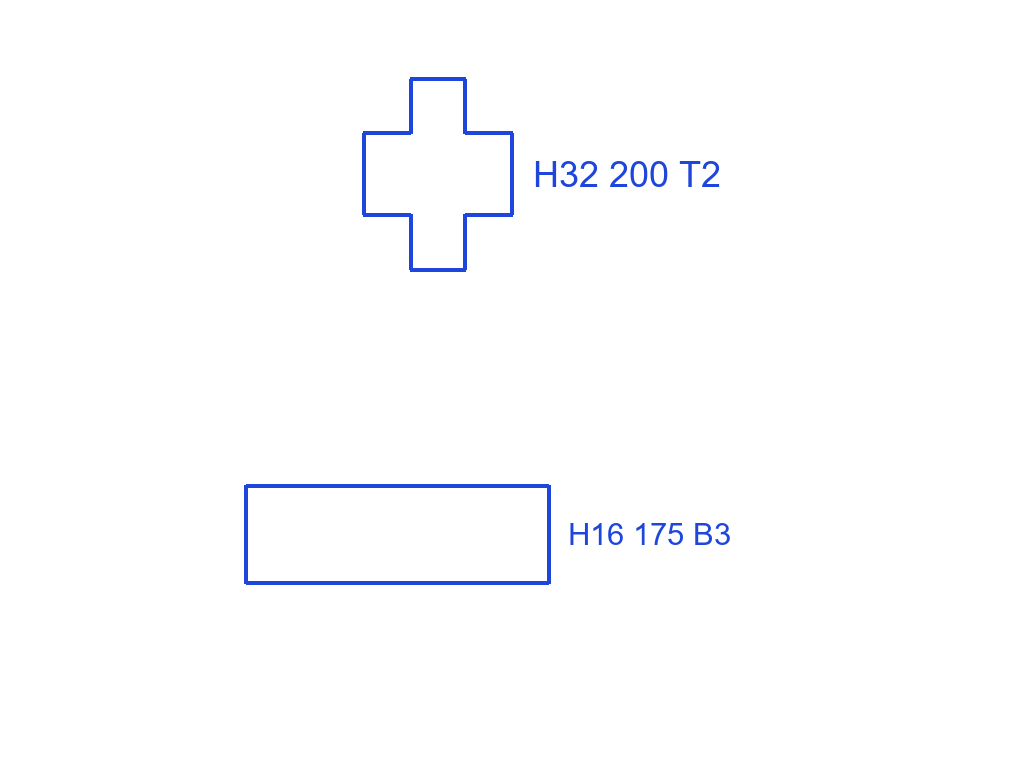shape: (243, 481, 552, 587), (359, 75, 517, 273)
text: (531, 159, 723, 189), (566, 521, 733, 547)
